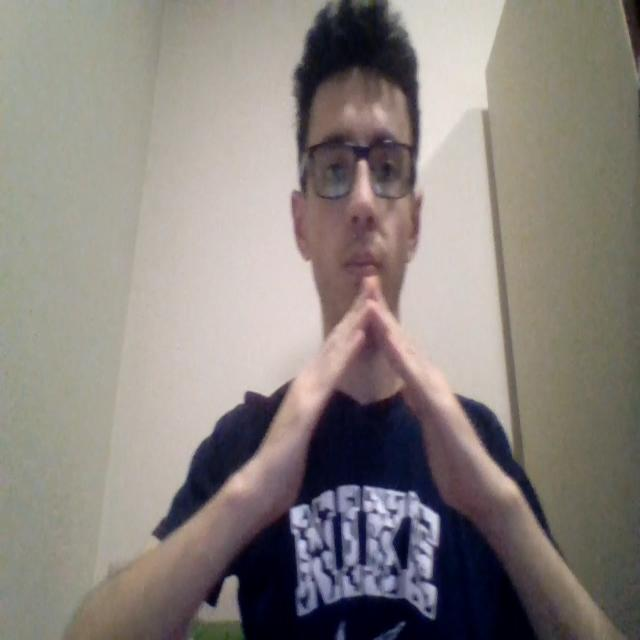house: (224, 272, 507, 536)
